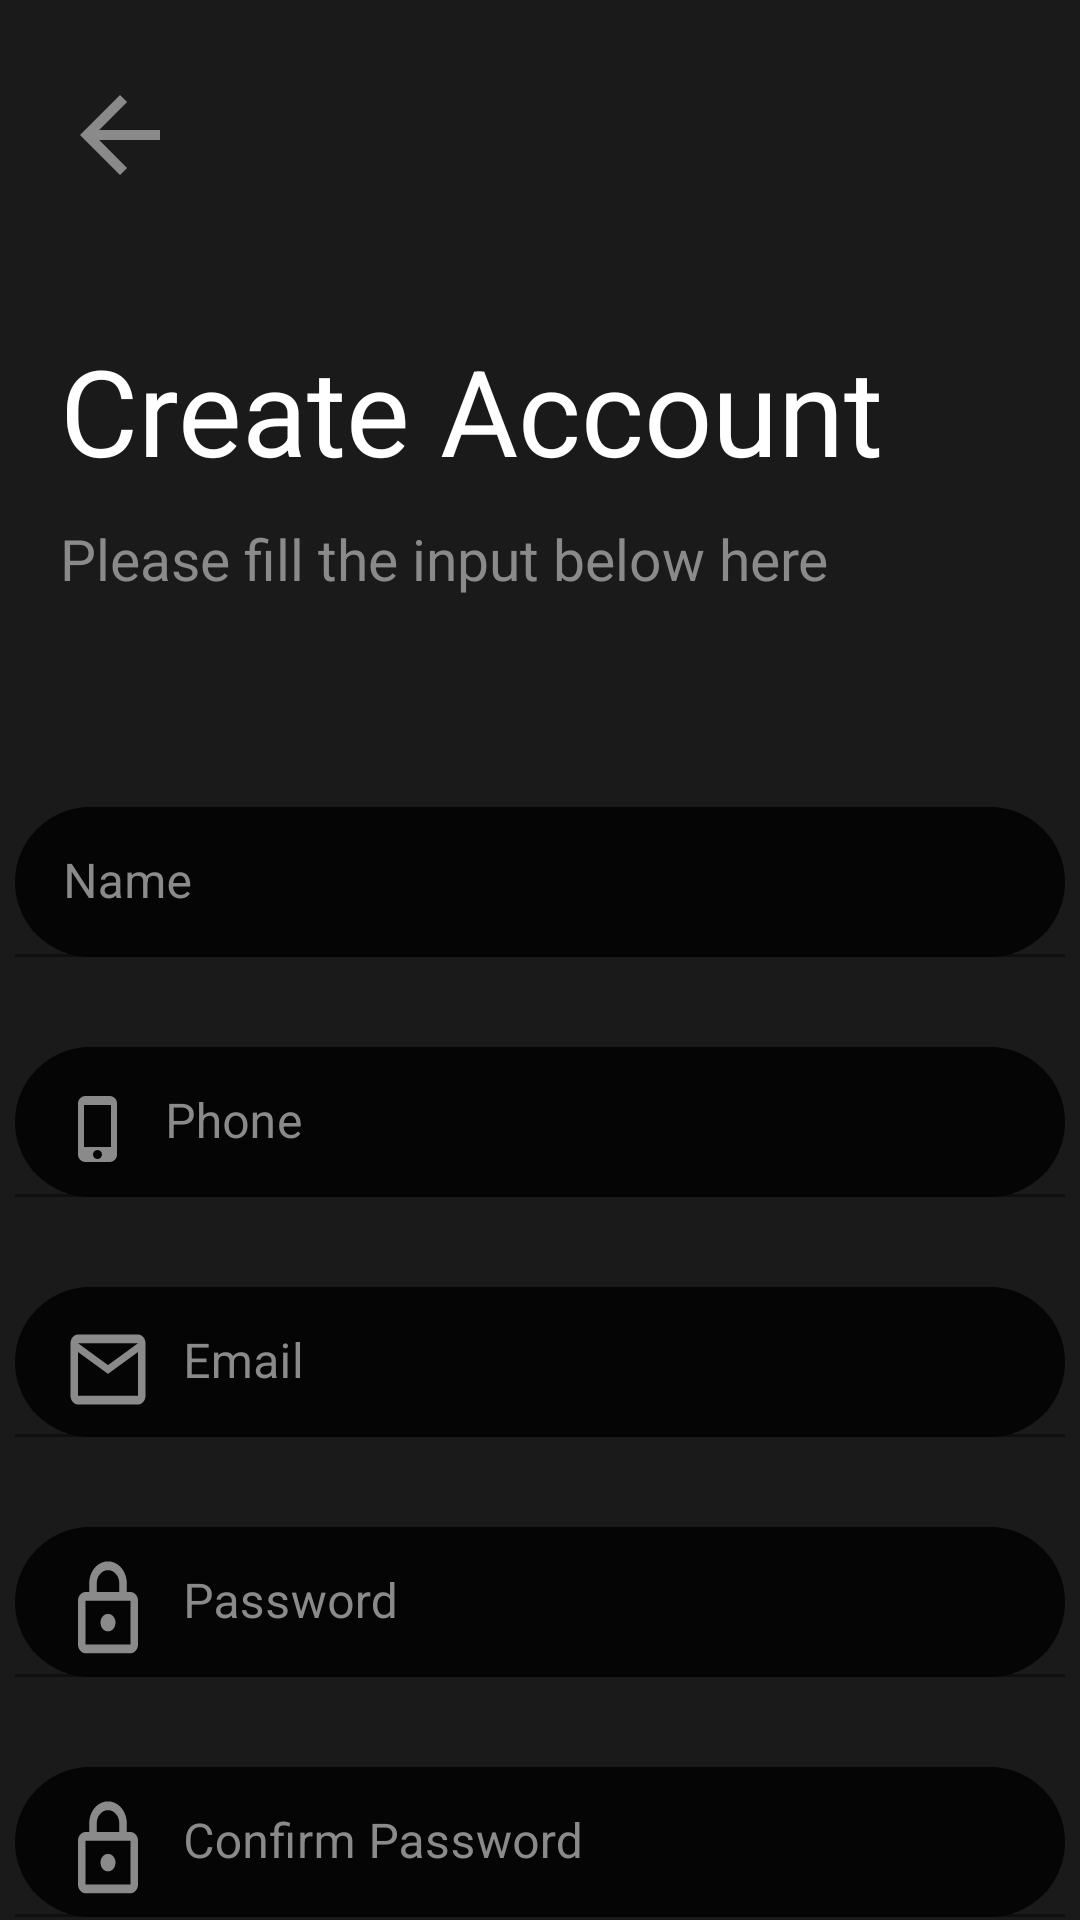

Screen size 1080 x 1920. Icon name, then its center in pixels as (x,y):
arrow back: (120,135)
